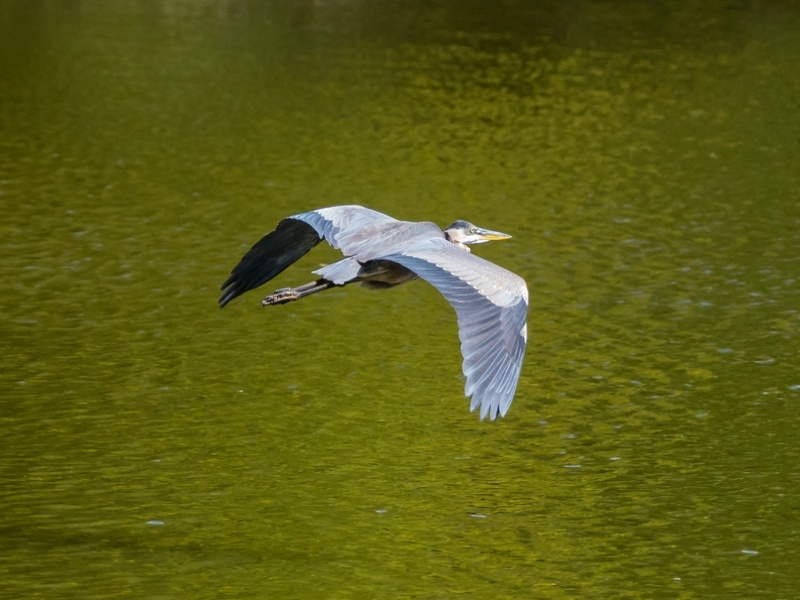heron: (216, 202, 529, 418)
